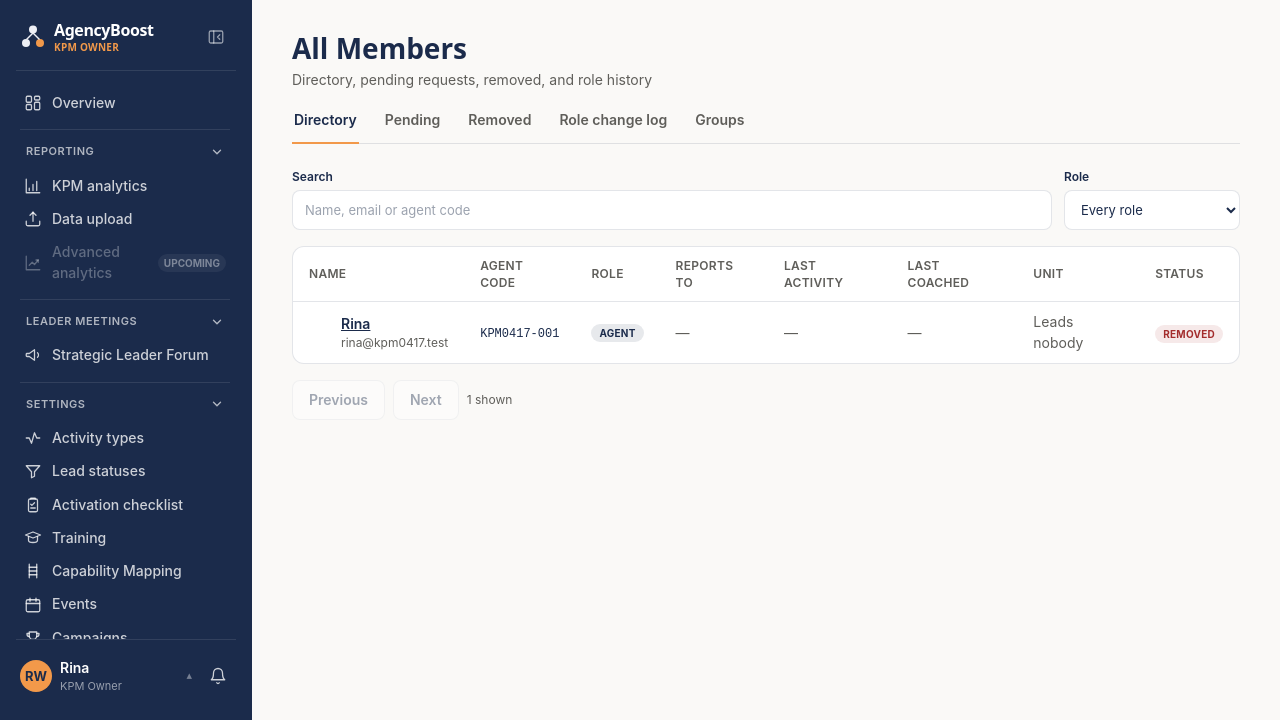
Scenario: members directory (P3-T1 AC-3) › P3-T7 AC-2: the Removed tab says when they left, not that they are removed
Step 1. Click the button "Removed" → click(500, 127), box [466,110,533,144]
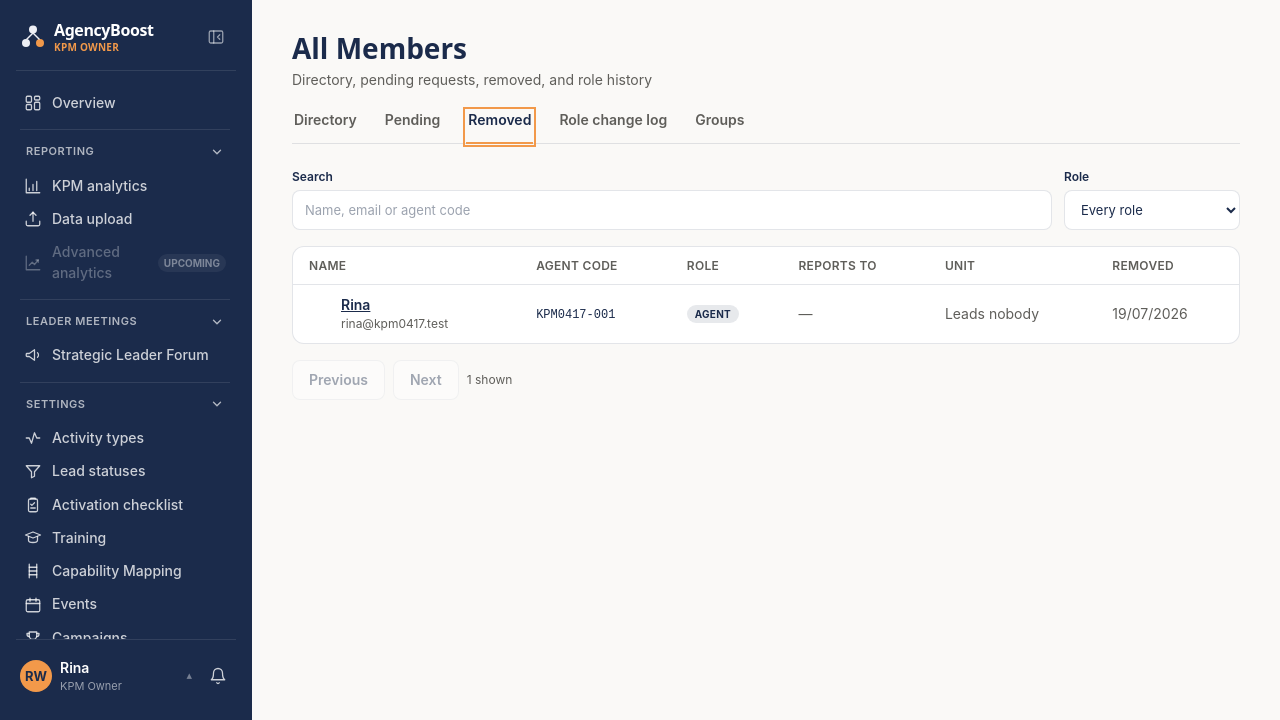
Expected: the column heading "Removed" is shown, [1096,247,1239,284]
Expected: the row "Rina" shows "19/07/2026", [1112,305,1188,322]
